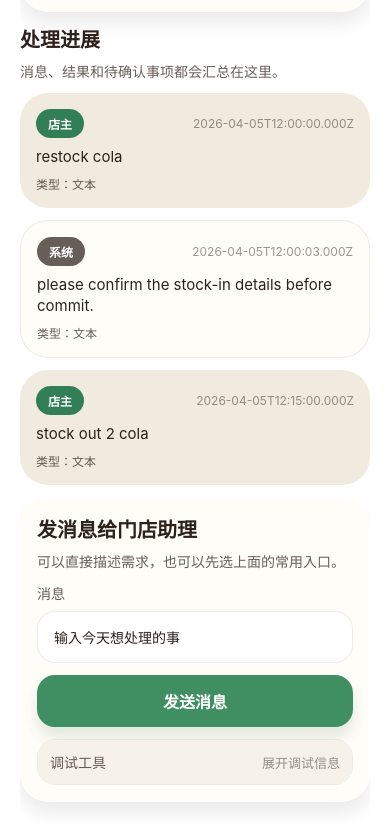
Scenario: ChatScreen › sends a photo query demo through upload request, completion, and final message post
(page scrolled)
Click the button labelled "调试工具 展开调试信息": (78,762) [38, 740, 352, 784]
(page scrolled)
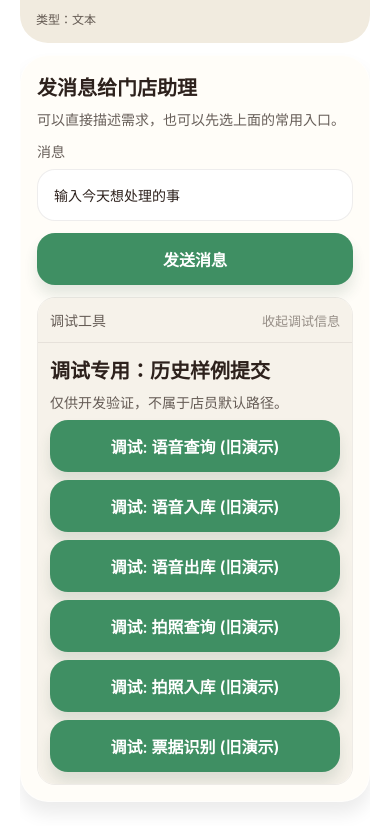
Expected: the text "调试: 语音查询 (旧演示)" is shown, [110, 434, 280, 458]
Click the button "调试: 拍照查询 (旧演示)": (195,626) [50, 600, 340, 652]
(page scrolled)
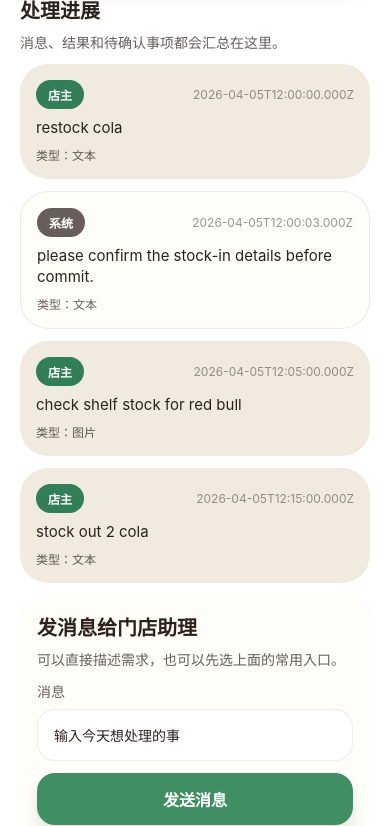
Expected: the text "check shelf stock for red bull" is shown, [36, 395, 242, 414]
